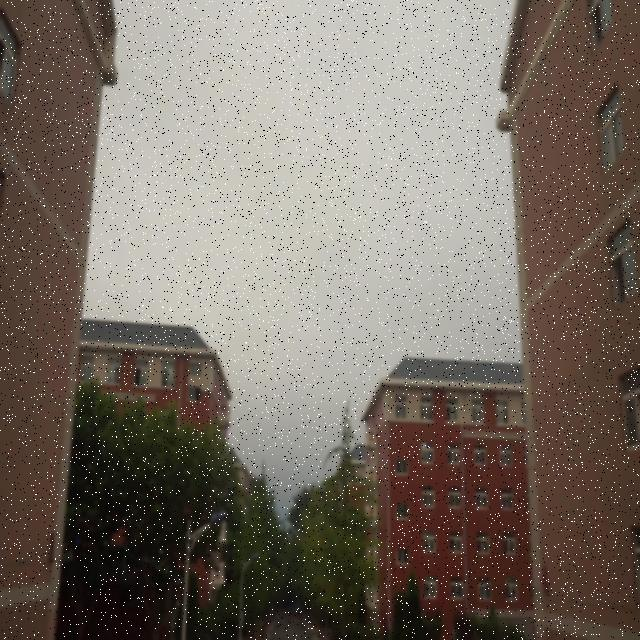UAV: (373, 389, 382, 398)
